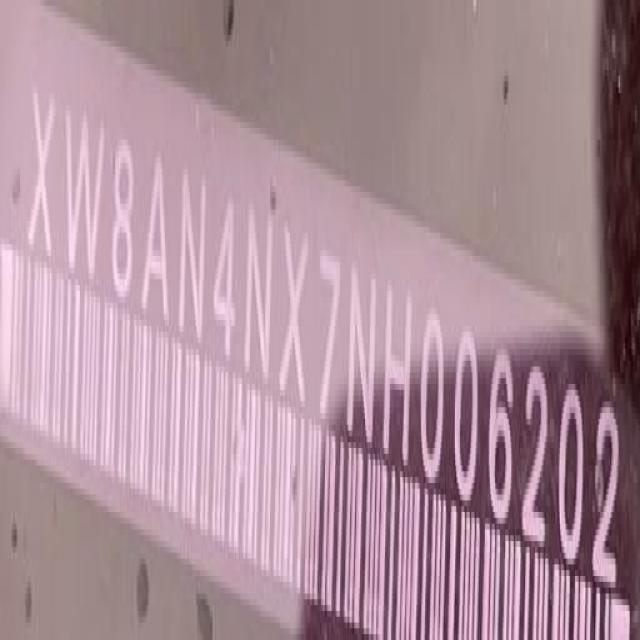0: (555, 372, 584, 572), (418, 304, 448, 492), (454, 324, 481, 512)
2: (594, 406, 624, 594), (522, 359, 550, 552)
4: (212, 181, 238, 368)
6: (488, 337, 515, 529)
7: (314, 241, 342, 428)
8: (112, 130, 136, 306)
A: (142, 146, 172, 334)
H: (385, 285, 417, 473)
N: (346, 262, 382, 449), (244, 199, 274, 394), (180, 165, 210, 355)
W: (63, 99, 103, 293)
X: (280, 215, 312, 418), (28, 82, 56, 271)
